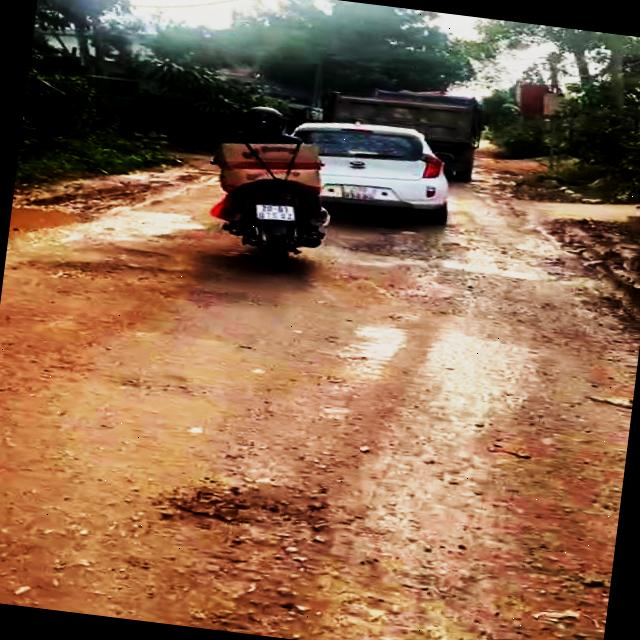pothole: (7, 194, 88, 254)
